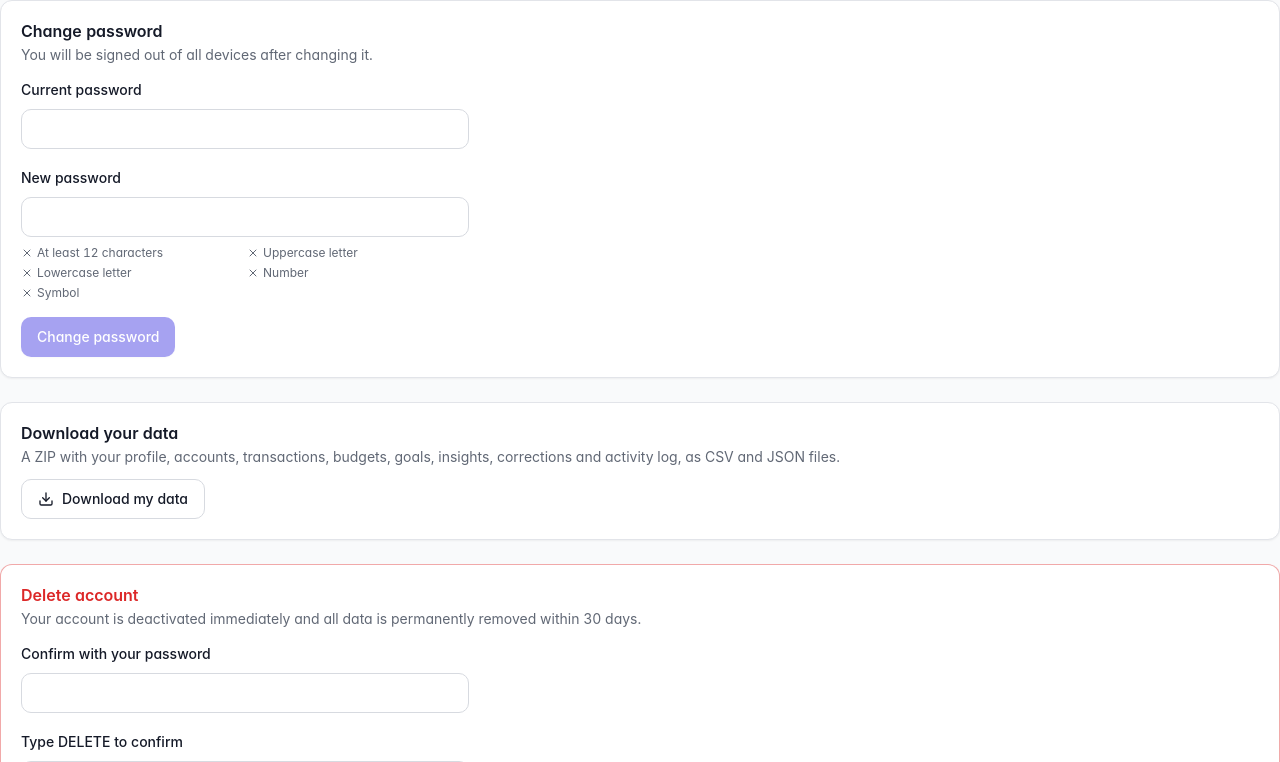
Test case: SecuritySettings › downloads the data export
The image size is (1280, 762).
Step 1. Click the button "Download my data" → (113, 499), box [21,479,205,519]
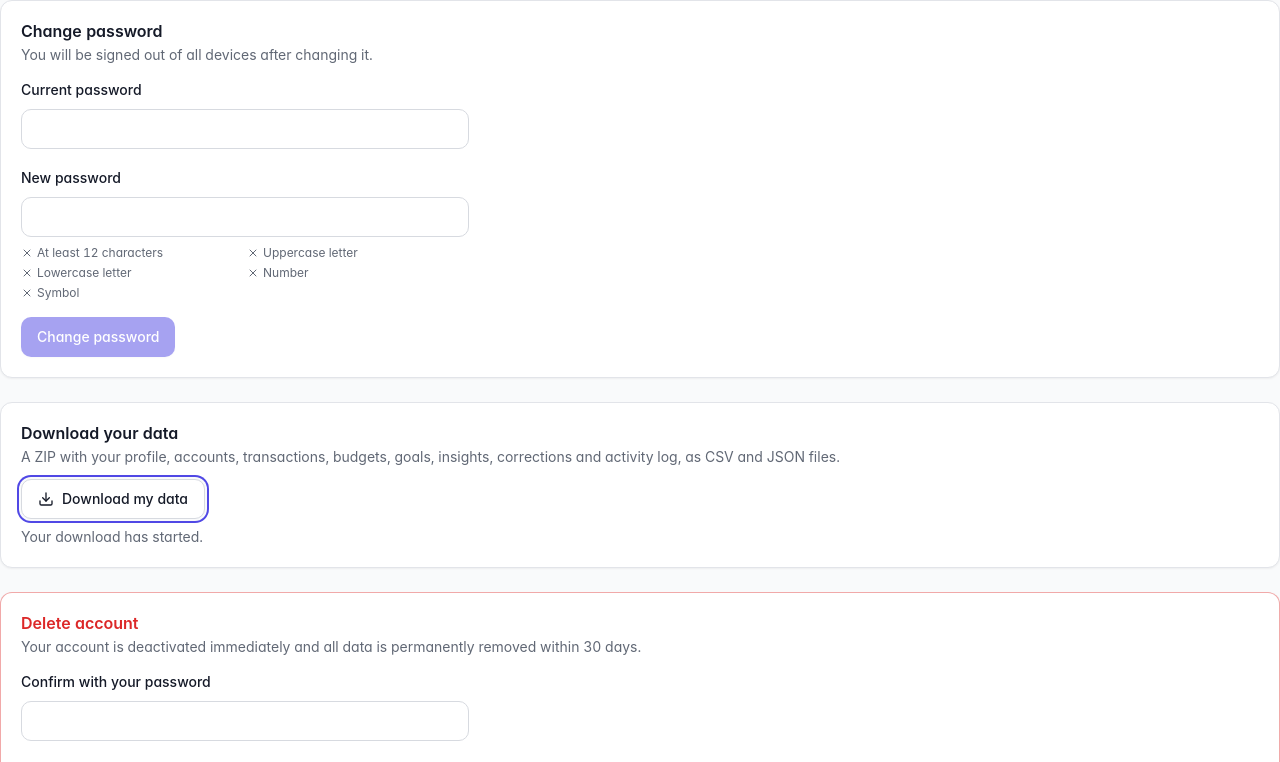
expect the message reads "Your download has started.": met, box [21,528,203,545]
